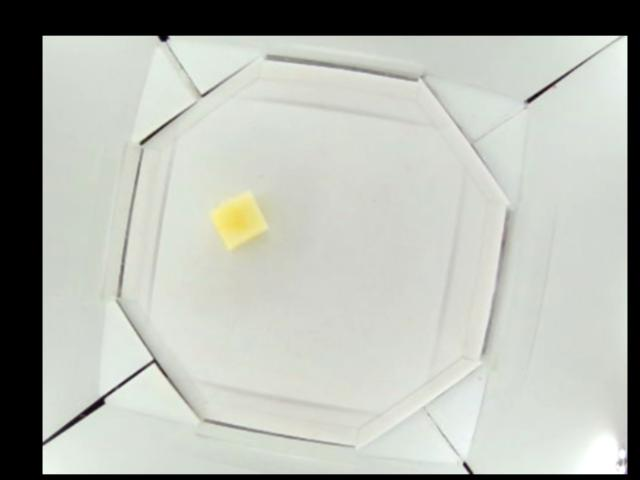Potato: (209, 192, 267, 252)
